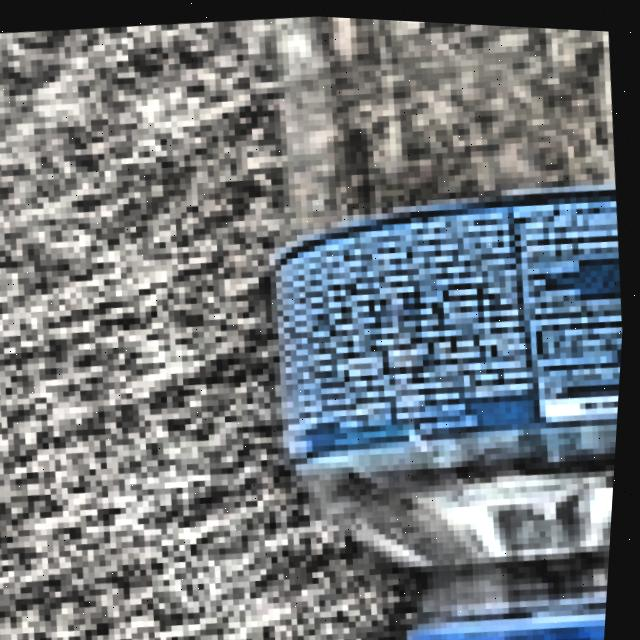plastic: (200, 9, 640, 640)
